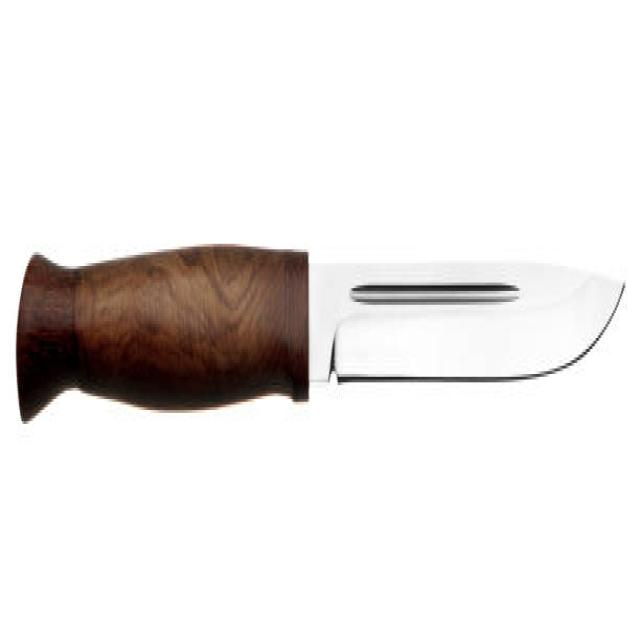knife: (12, 221, 639, 471)
